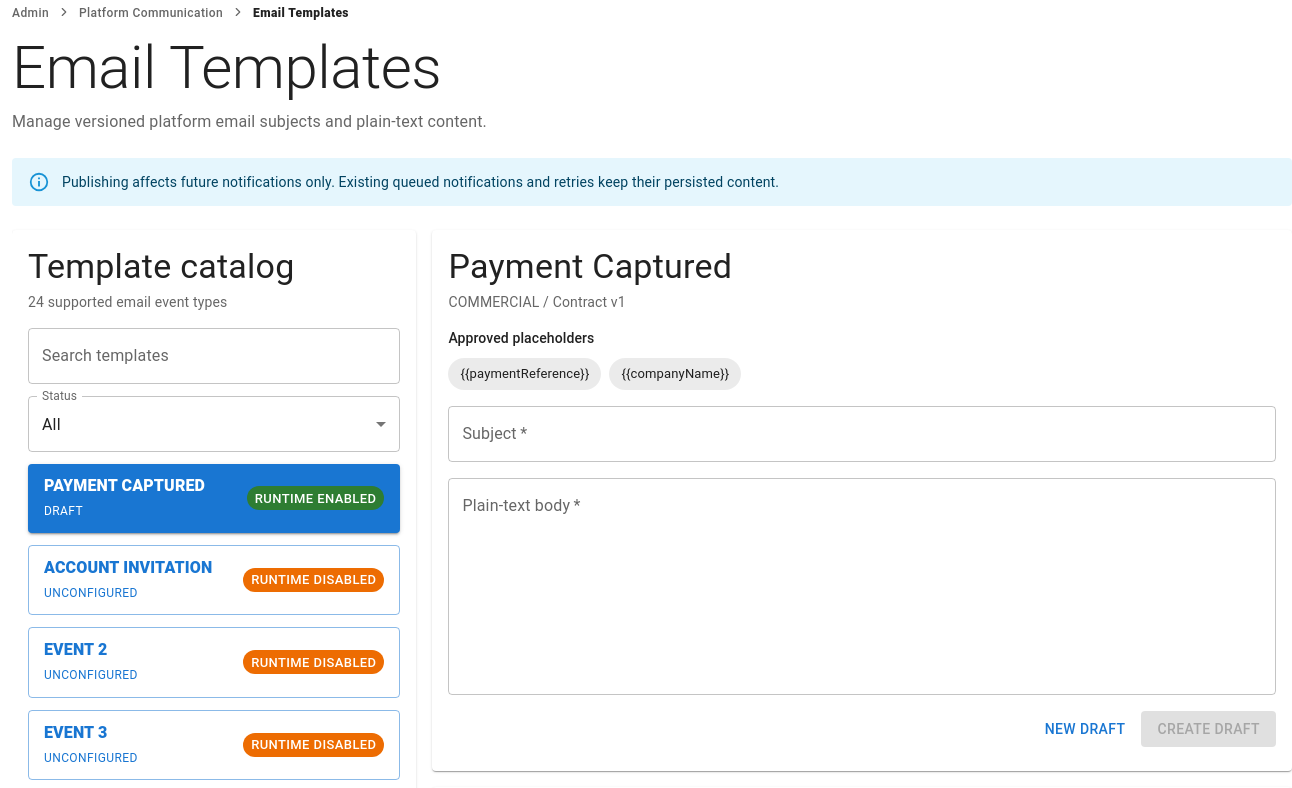
Test: EmailTemplatesPage › loads all 24 types and identifies runtime-disabled security content
Expected: the text "24 supported email event types" is shown, [28,294,227,310]
Expected: the text "Runtime disabled" is shown 3 times, [243,570,384,590]; [243,652,384,672]; [243,735,384,754]
In the field labelled "Search templates": point(214, 356) [28,328,400,384], type "account invitation"
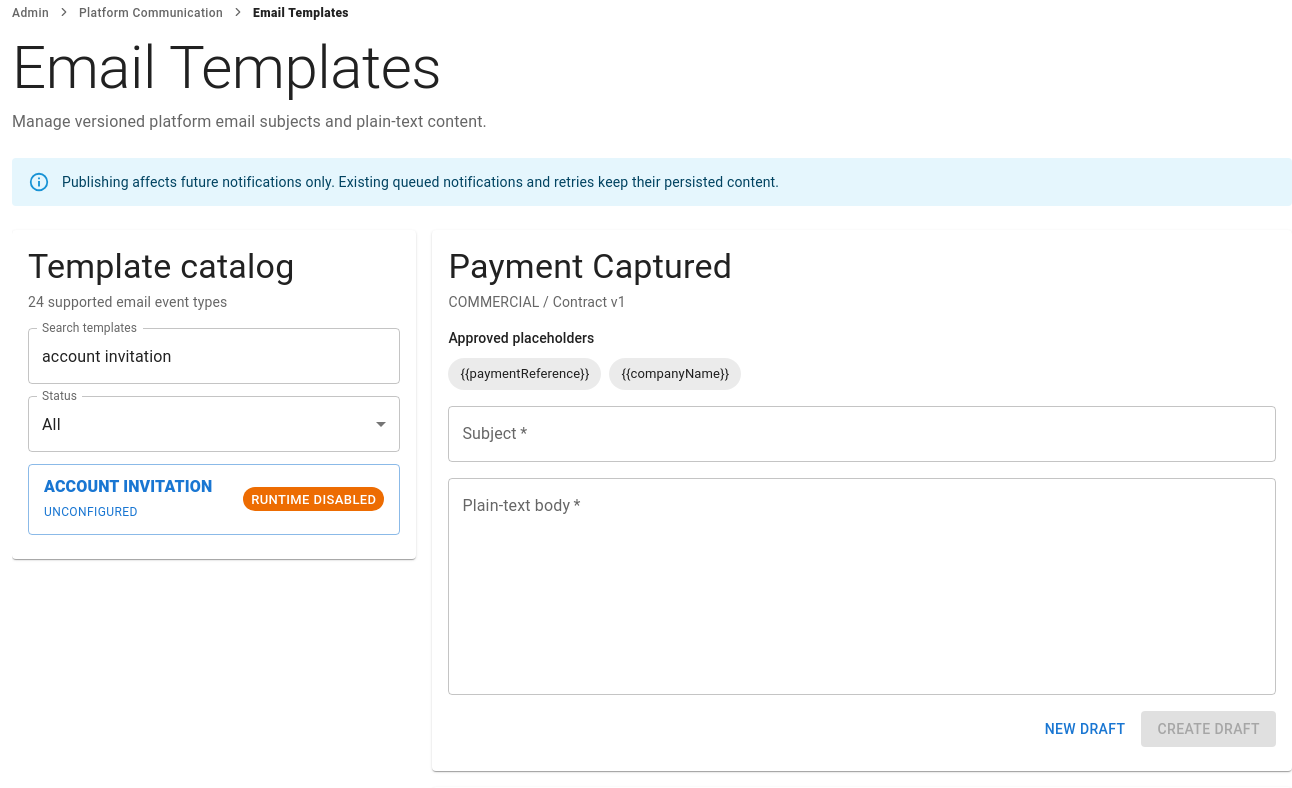
Expected: the text "Runtime disabled" is shown, [243,490,384,509]
Click the text "Account Invitation": point(128, 487) [44,475,212,499]
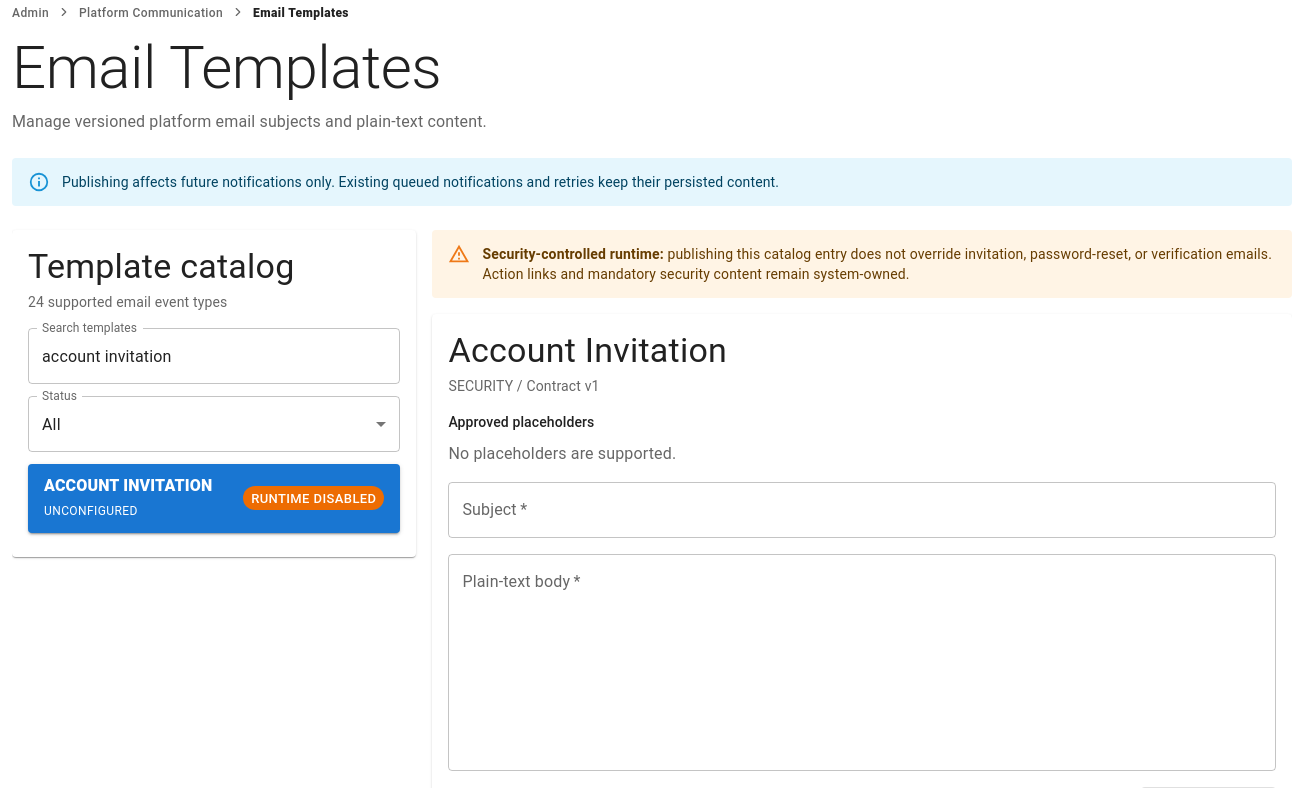
Expected: the text "publishing this catalog entry does not override" is shown, [482,246,1272,282]
